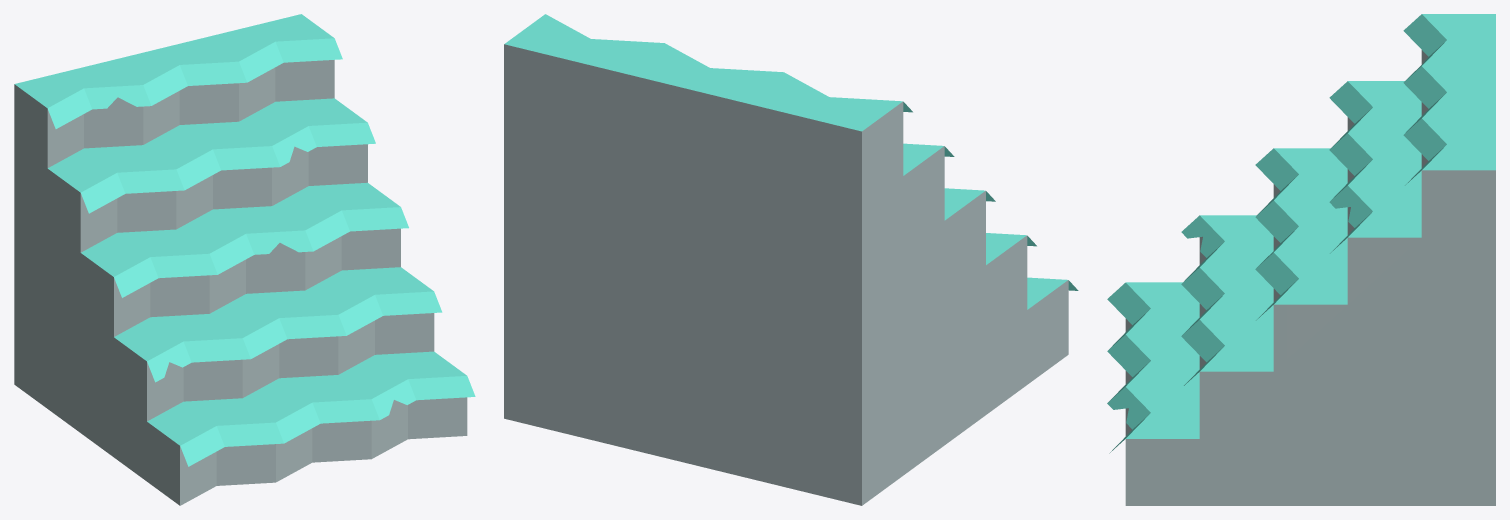
File: cliff_steps_stone.glb
3 renders of one model, left to right at view 1: azimuth 30°, elevation 25°; view 2: azimuth 150°, elevation 25°; view 3: azimuth 270°, elevation 25°, orthographic. The views are drawn at different scales.
Parts seen in each view (by area): view 1: cliff_steps_stone; view 2: cliff_steps_stone; view 3: cliff_steps_stone.
Part boxes in pixels (<box>): cliff_steps_stone: <box>14,14,475,505</box>; cliff_steps_stone: <box>504,14,1078,505</box>; cliff_steps_stone: <box>1107,14,1495,505</box>.
Bounding box in the file's own units: 1 × 1 × 1.05.
